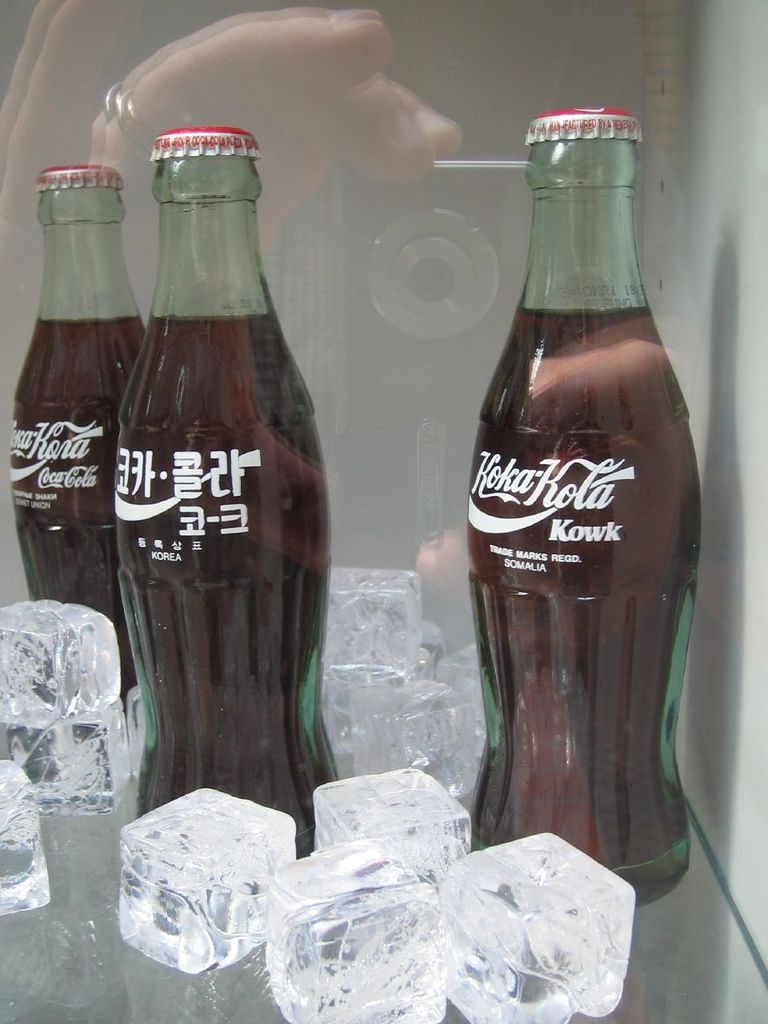can: (464, 110, 701, 912), (115, 128, 330, 856), (13, 168, 146, 706)
